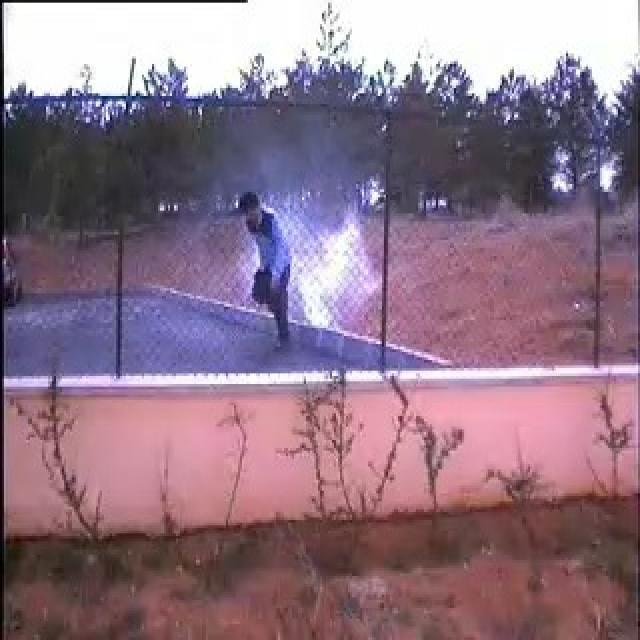smoke: (289, 215, 363, 331)
